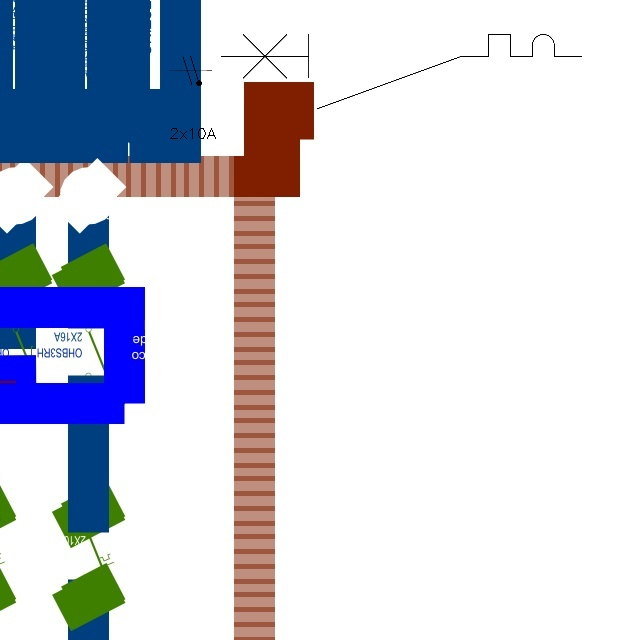interruptor_termomagnetico: (211, 25, 590, 117)
